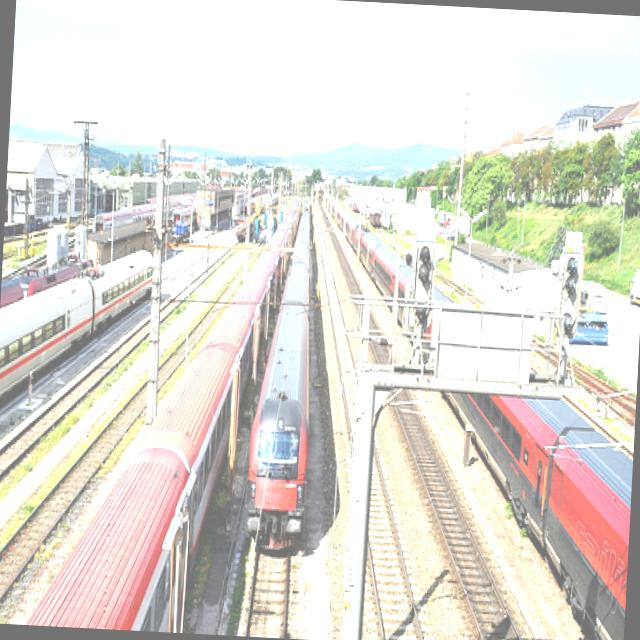Vehicle: (571, 309, 611, 346), (628, 268, 640, 309)
